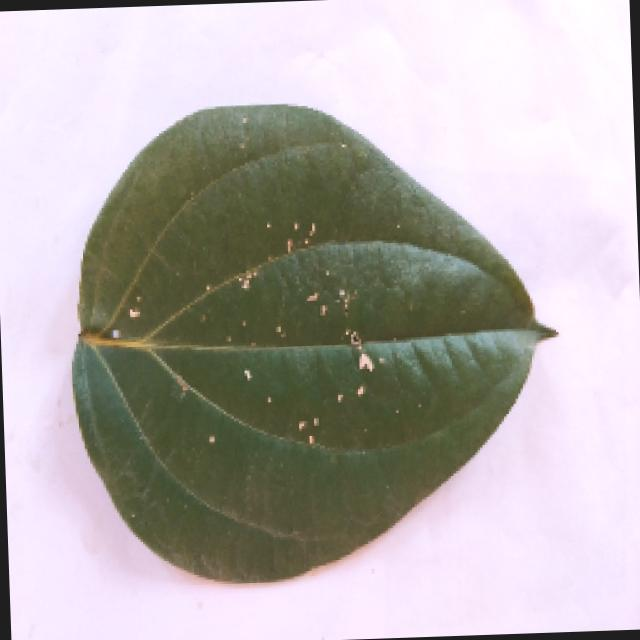pollu-disease: (67, 97, 566, 586)
